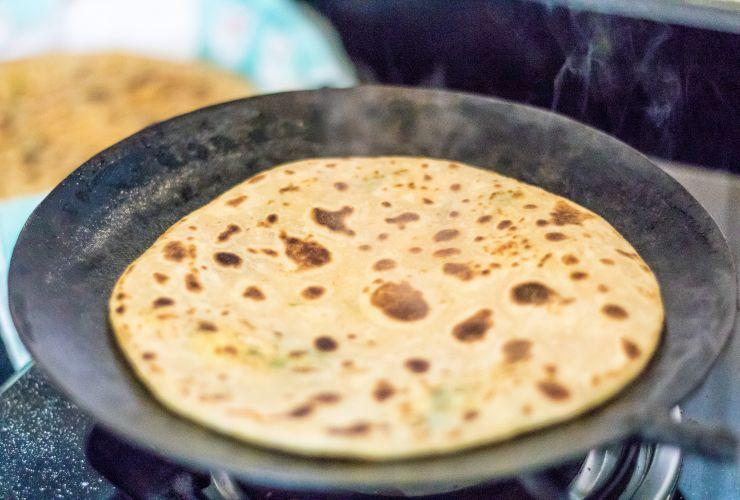chapati: (108, 156, 663, 459)
